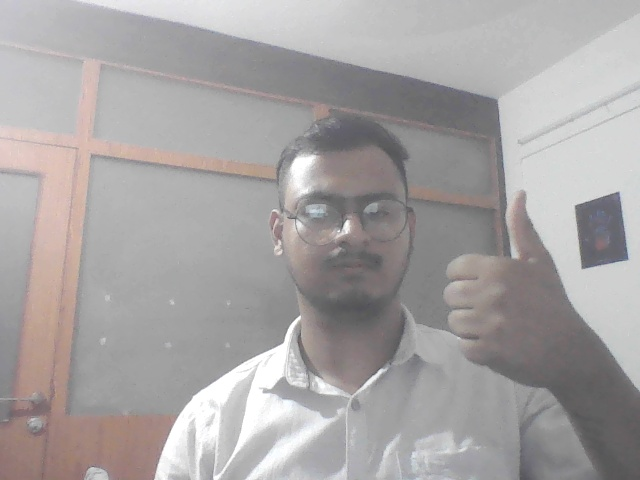Good: (439, 184, 577, 393)
